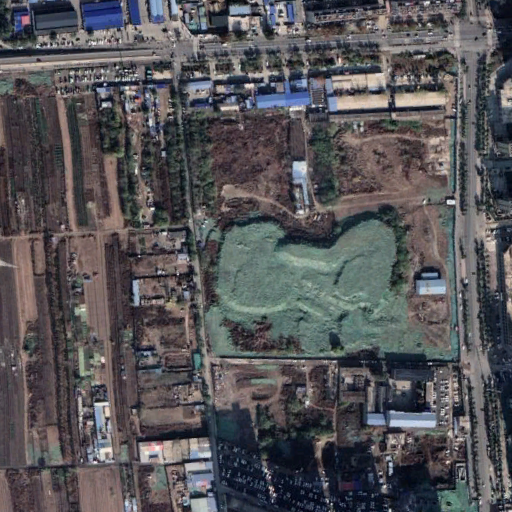cw: (202, 200, 460, 362)
